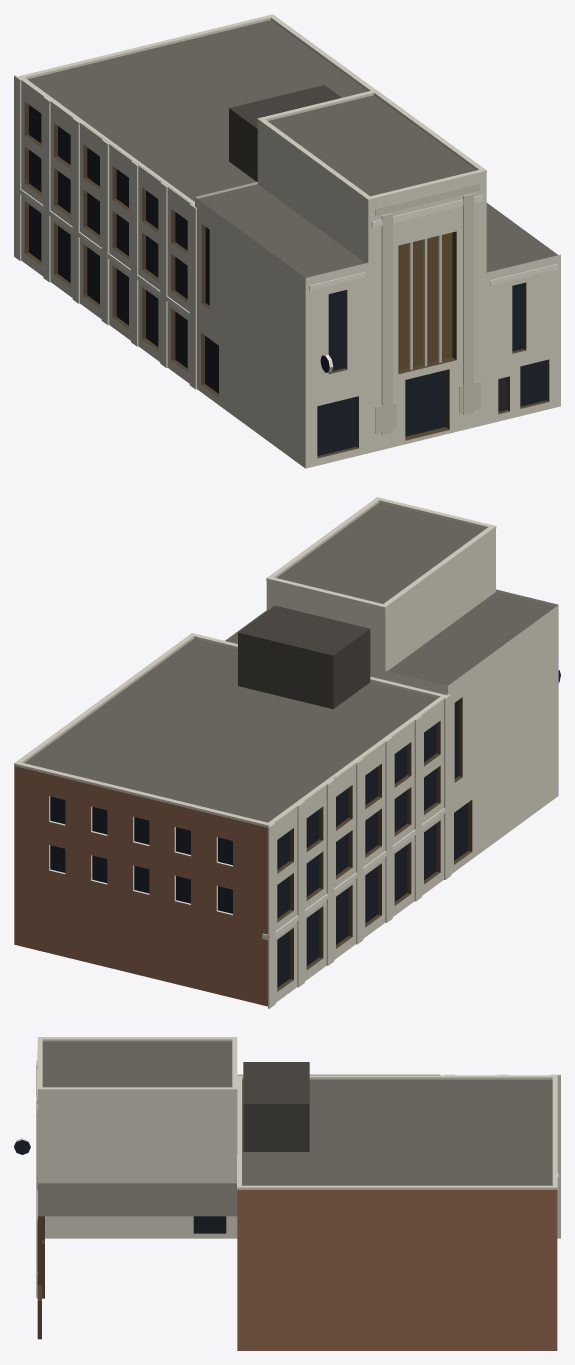
Rendered from union-national-bank-1929.glb.
3 views of the same model, one above another, from view 1: azimuth 30°, elevation 25°; view 2: azimuth 150°, elevation 25°; view 3: azimuth 270°, elevation 25° (orthographic). The views are drawn at different scales.
Visible parts, largest first — view 1: union_stone, union_roof, union_glass, union_stone2, union_sash, union_bronze, union_pent, union_trim; view 2: union_stone, union_roof, union_brick, union_glass, union_pent, union_sash, union_trim; view 3: union_brick, union_roof, union_stone, union_pent, union_sash, union_glass, union_stone2, union_trim.
Part boxes in pixels (x1,y1,x2,y2): union_stone: [14, 14, 560, 468]; union_roof: [27, 20, 557, 277]; union_glass: [29, 105, 546, 455]; union_stone2: [375, 183, 480, 434]; union_sash: [24, 102, 549, 458]; union_bronze: [398, 232, 452, 370]; union_pent: [229, 85, 341, 181]; union_trim: [20, 123, 557, 372]; union_stone: [14, 497, 558, 1008]; union_roof: [24, 502, 555, 822]; union_brick: [14, 766, 267, 1006]; union_glass: [50, 700, 467, 987]; union_pent: [238, 605, 370, 709]; union_sash: [277, 697, 472, 991]; union_trim: [49, 694, 447, 940]; union_brick: [237, 1190, 557, 1350]; union_roof: [37, 1041, 552, 1216]; union_stone: [37, 1037, 560, 1238]; union_pent: [243, 1062, 309, 1151]; union_sash: [37, 1216, 44, 1339]; union_glass: [193, 1216, 226, 1233]; union_stone2: [36, 1050, 37, 1298]; union_trim: [14, 1060, 558, 1224].
Size of the model in its own units: 22.14 by 20.9 by 45.27.
